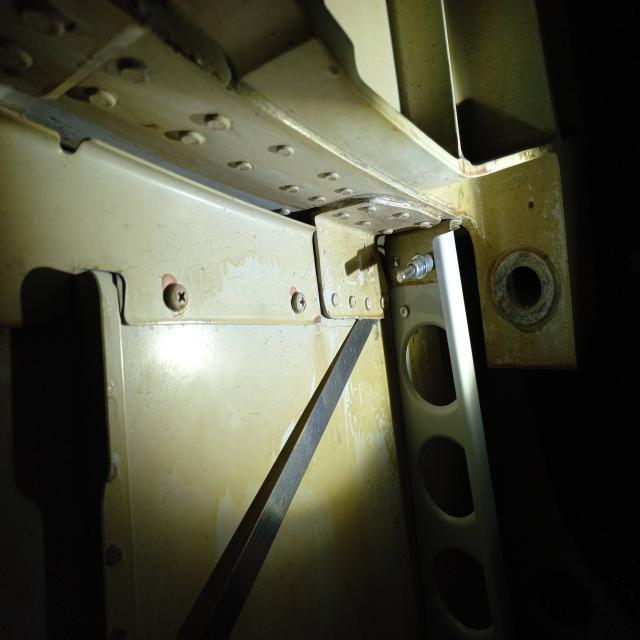Missing Fastener: (391, 255, 403, 271)
